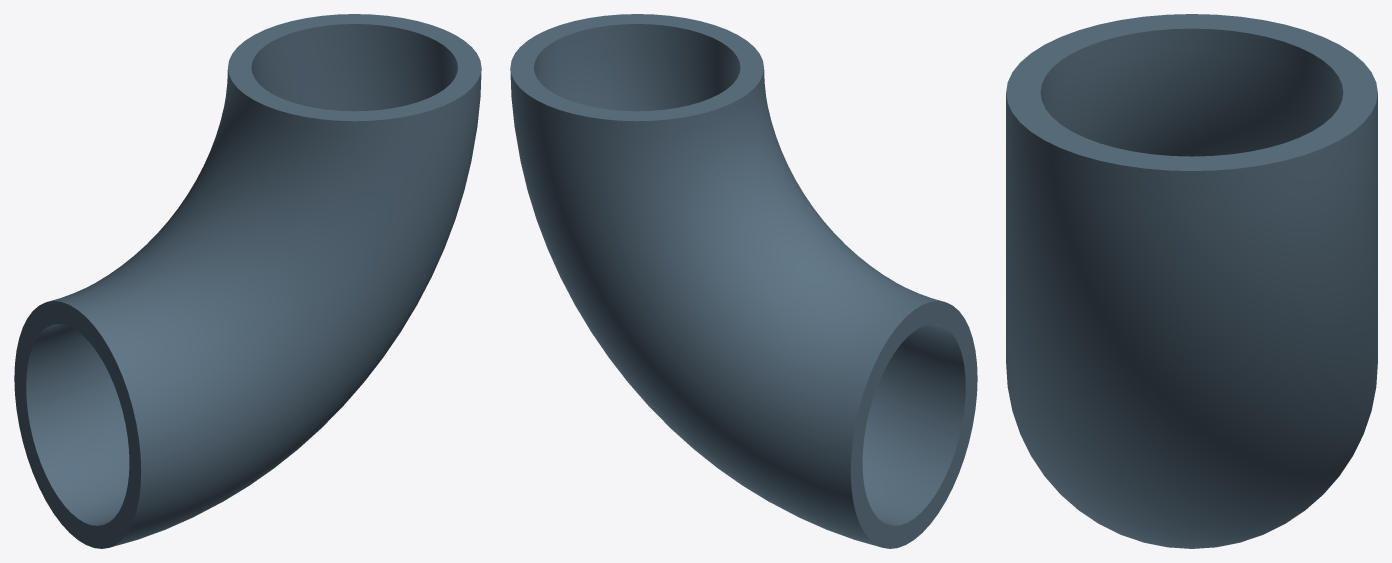
The model's file is otvod-90-60_3x5_6-R76.glb.
3 views of the same model, side by side, from view 1: azimuth 30°, elevation 25°; view 2: azimuth 150°, elevation 25°; view 3: azimuth 270°, elevation 25° (orthographic). The views are drawn at different scales.
Visible parts, largest first — view 1: Open CASCADE STEP translator 7.9 19; view 2: Open CASCADE STEP translator 7.9 19; view 3: Open CASCADE STEP translator 7.9 19.
Part boxes in pixels (x1,y1,x2,y2): Open CASCADE STEP translator 7.9 19: (14,14,481,548); Open CASCADE STEP translator 7.9 19: (510,14,977,548); Open CASCADE STEP translator 7.9 19: (1006,14,1377,548).
Size of the model in its own units: 106 by 106 by 60.3.
